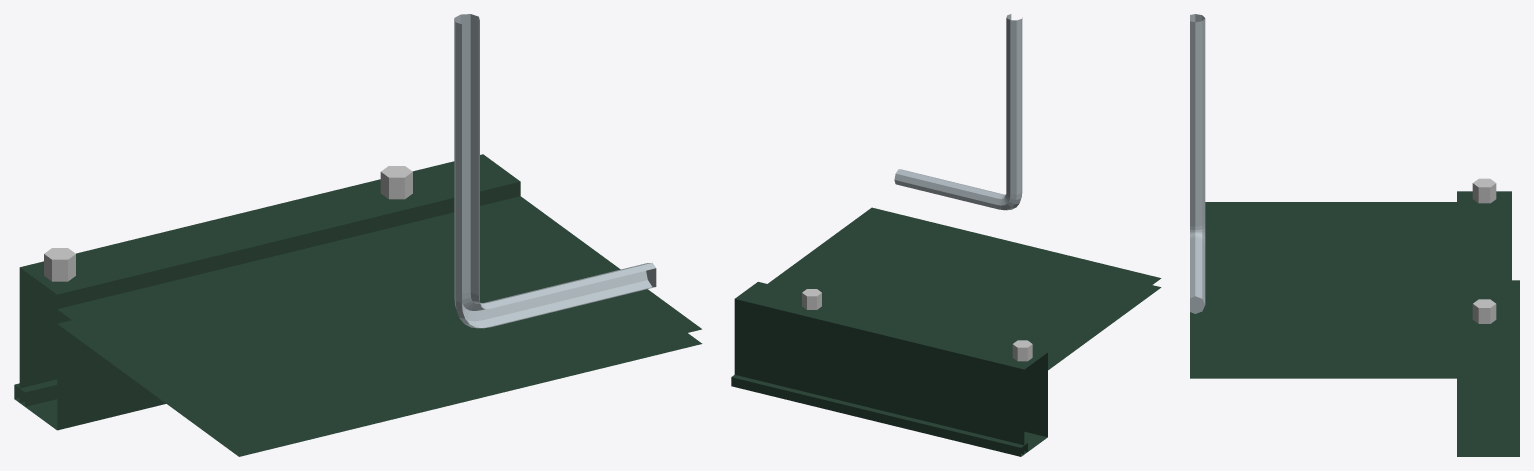
The model's file is cell_1.obj.
3 views of the same model, side by side, from view 1: azimuth 30°, elevation 25°; view 2: azimuth 150°, elevation 25°; view 3: azimuth 270°, elevation 25° (orthographic). The views are drawn at different scales.
Bounding box in the file's own units: 1 × 1 × 0.84.
